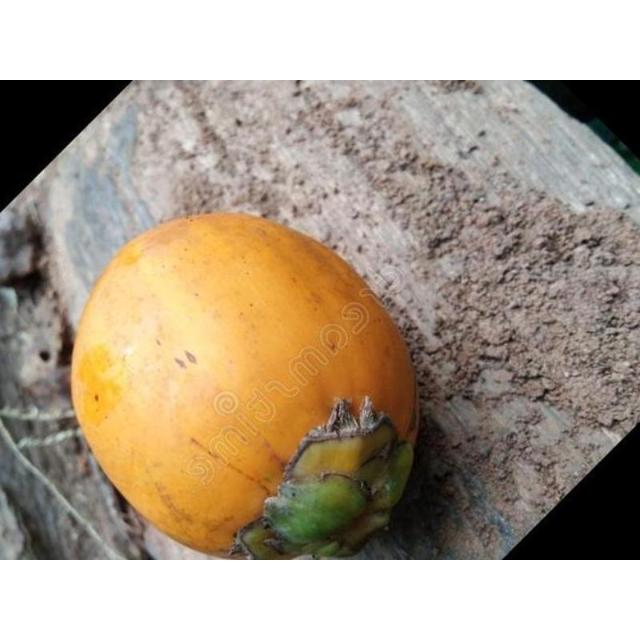good: (70, 213, 422, 559)
